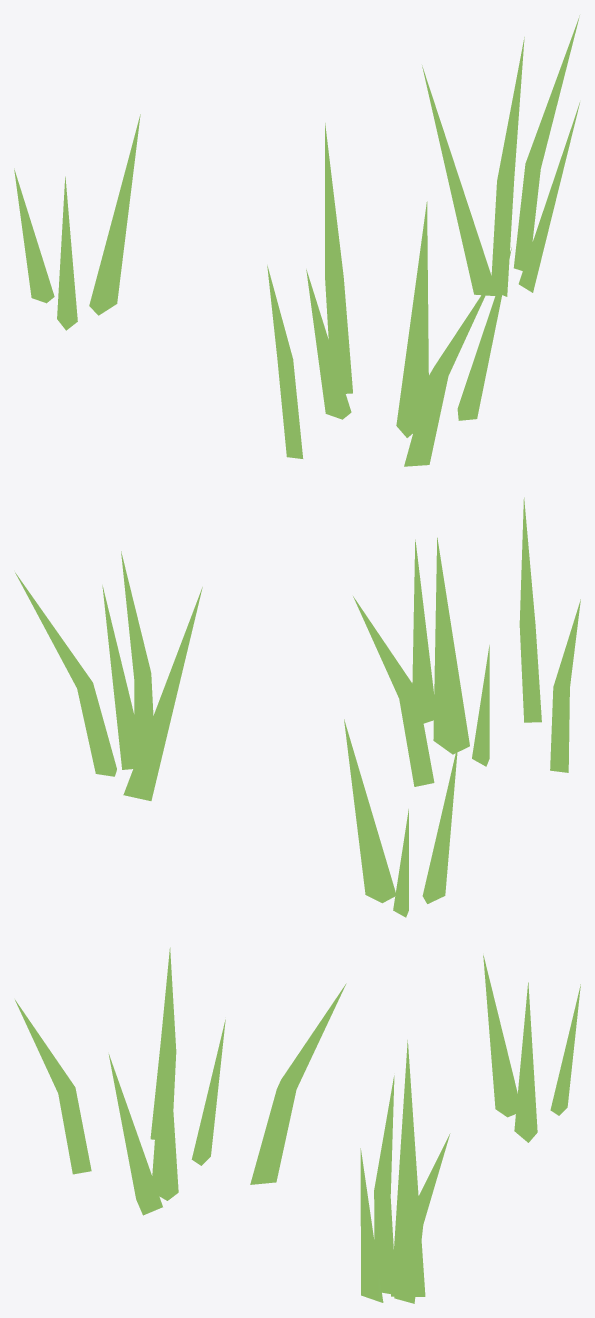
File: Grass3D_a_07.fbx
The picture shows the model from 3 angles, top to bottom: view 1: azimuth 30°, elevation 25°; view 2: azimuth 150°, elevation 25°; view 3: azimuth 270°, elevation 25°; orthographic projection. The views are drawn at different scales.
Parts seen in each view (by area): view 1: Grass3D_a_07; view 2: Grass3D_a_07; view 3: Grass3D_a_07.
Part boxes in pixels (box(x1,y1,x2,y2)): Grass3D_a_07: box(14, 15, 579, 466); Grass3D_a_07: box(15, 497, 580, 917); Grass3D_a_07: box(15, 947, 580, 1303).
Bounding box in the file's own units: 1.15 × 0.5658 × 1.22.
